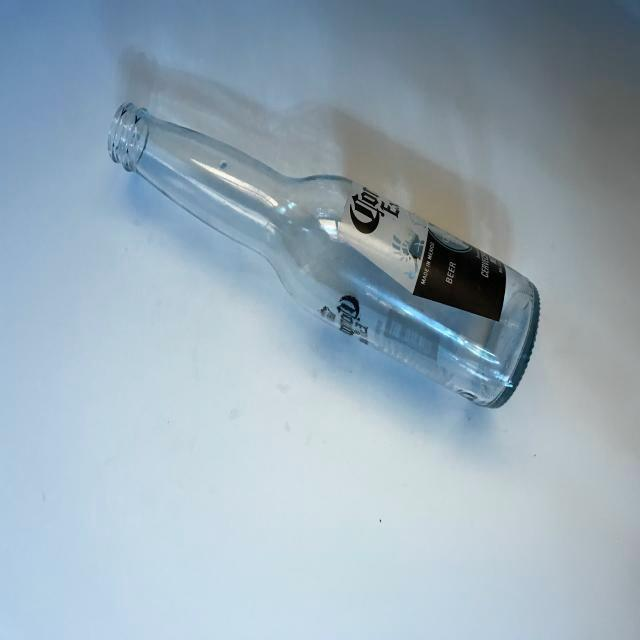glass: (98, 80, 558, 430)
